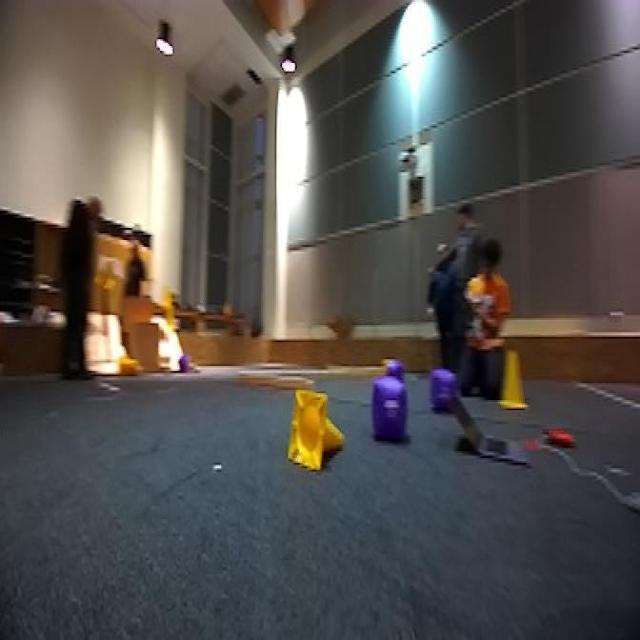frc_cone: (288, 392, 348, 473), (498, 349, 530, 412), (116, 352, 137, 380)
frc_cube: (371, 374, 408, 441), (429, 366, 459, 410), (384, 358, 404, 380), (175, 354, 192, 373)
